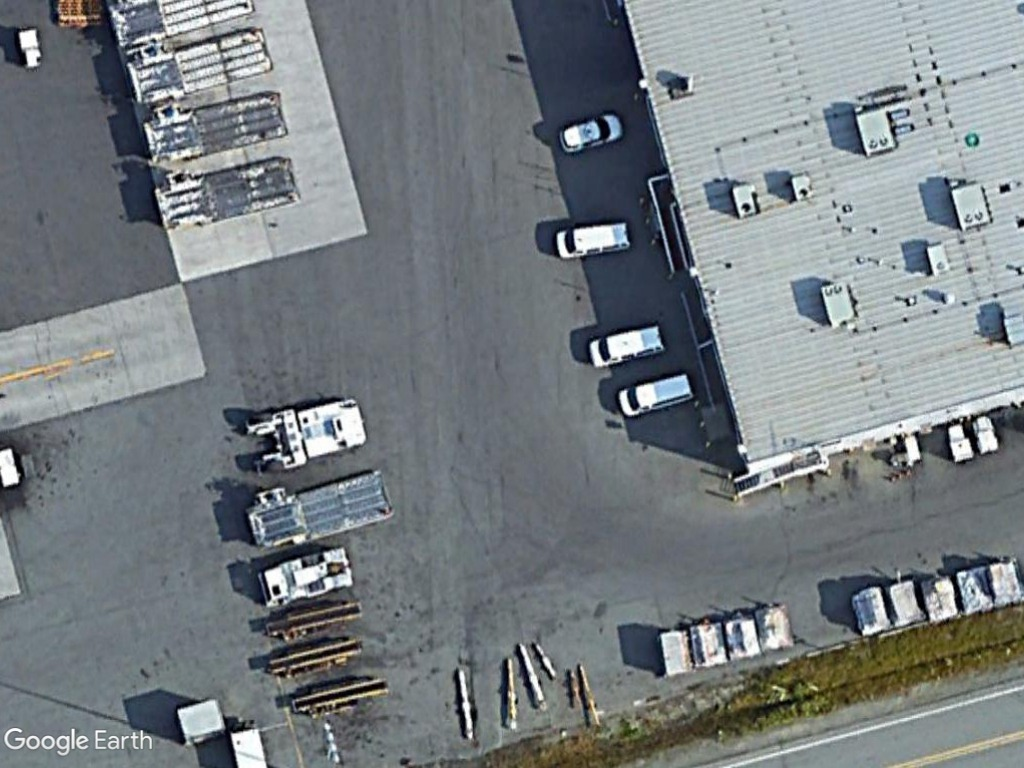car: (553, 106, 628, 157)
pushbacktruck: (238, 394, 372, 480)
van: (610, 371, 698, 424), (583, 319, 669, 371), (551, 214, 638, 264)
